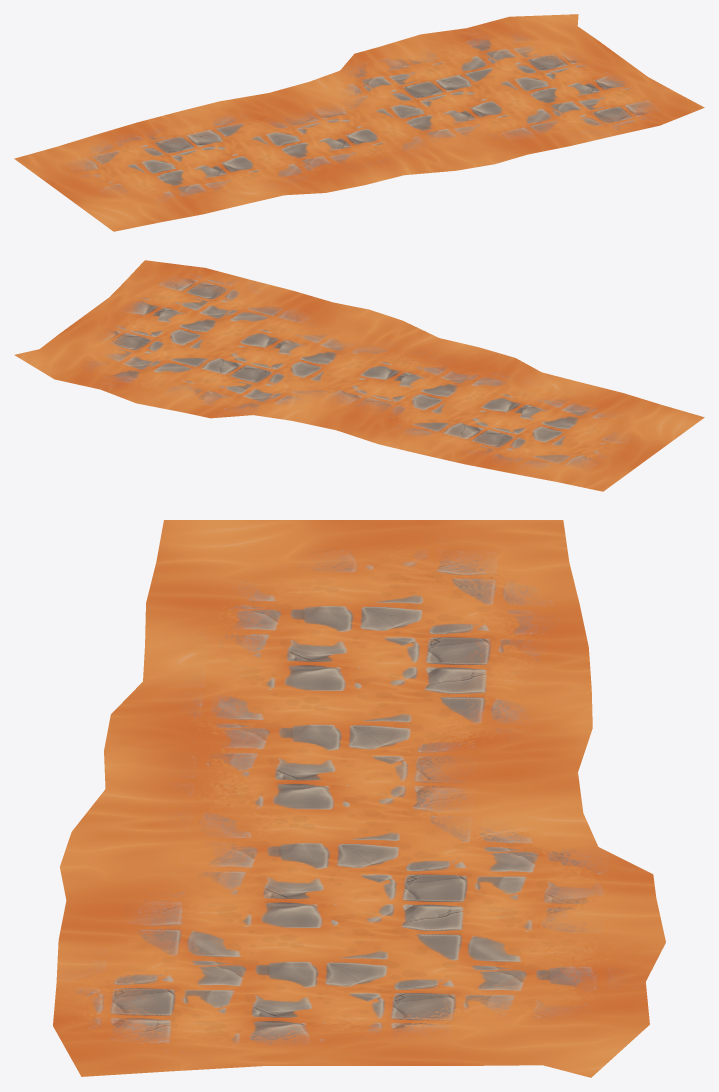
File: path_11.fbx
3 views of the same model, one above another, from view 1: azimuth 30°, elevation 25°; view 2: azimuth 150°, elevation 25°; view 3: azimuth 270°, elevation 25° (orthographic). The views are drawn at different scales.
Visible parts, largest first — view 1: path_11; view 2: path_11; view 3: path_11.
Part boxes in pixels (x1,y1,x2,y2): path_11: [14, 14, 704, 231]; path_11: [14, 260, 704, 491]; path_11: [53, 520, 665, 1077].
Size of the model in its own units: 39.86 by 5.88e-07 by 18.51.
1 material, 1 textured.
